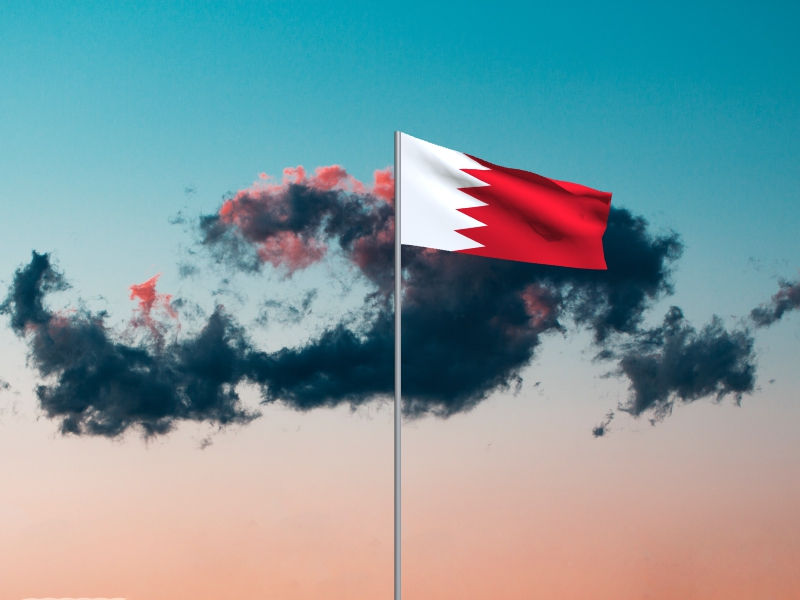bh: (402, 132, 615, 273)
